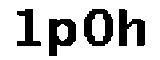0: (84, 6, 117, 49)
1: (13, 7, 42, 49)
h: (118, 7, 150, 49)
p: (47, 16, 79, 60)
